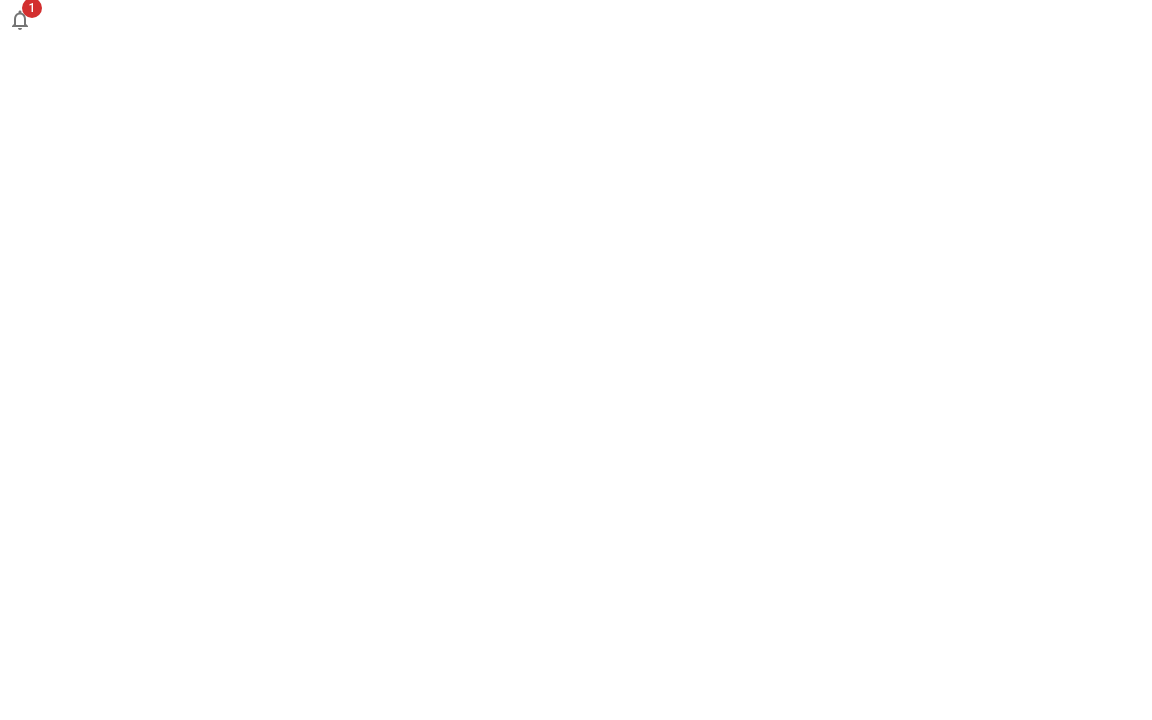
Test case: NotificationBell › opening a notification marks it read and goes to the incident
The image size is (1152, 720).
What coordinates should you click on to do the following:
click the button named "Notifications"
I would click on:
 (20, 20)
Its box is top-left (0, 0), bottom-right (40, 40).
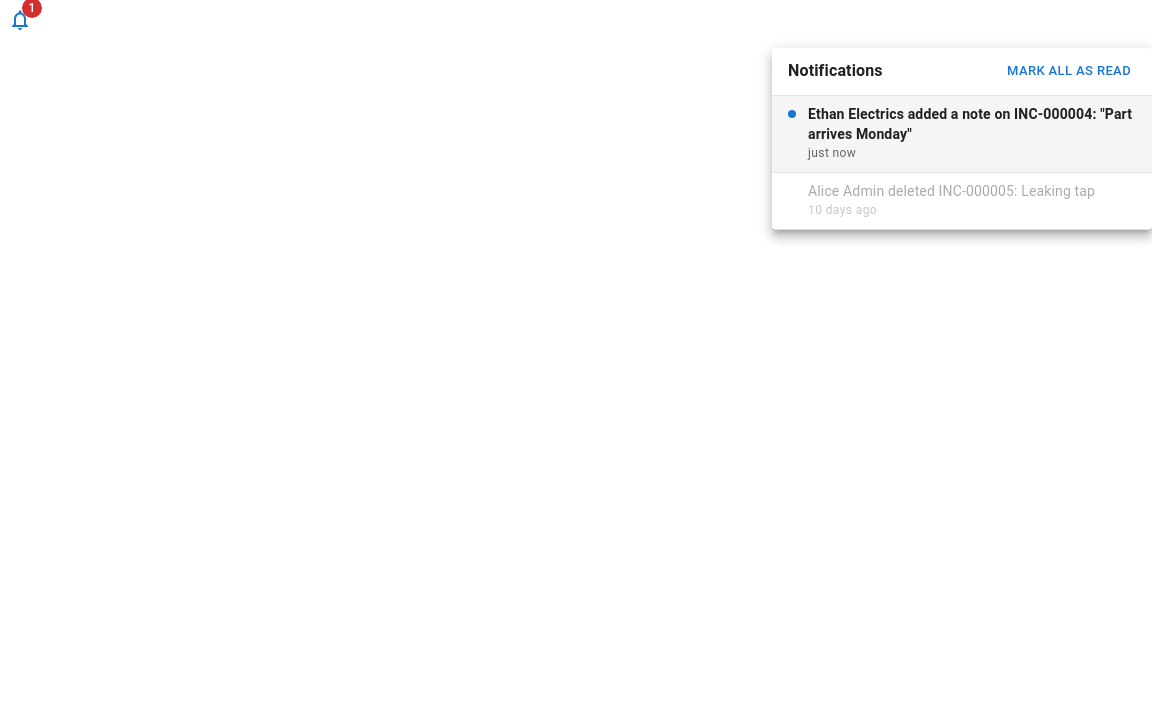
What coordinates should you click on to do the following:
click the button "Part arrives Monday"
I would click on:
 (970, 114)
Its box is top-left (772, 96), bottom-right (1151, 172).
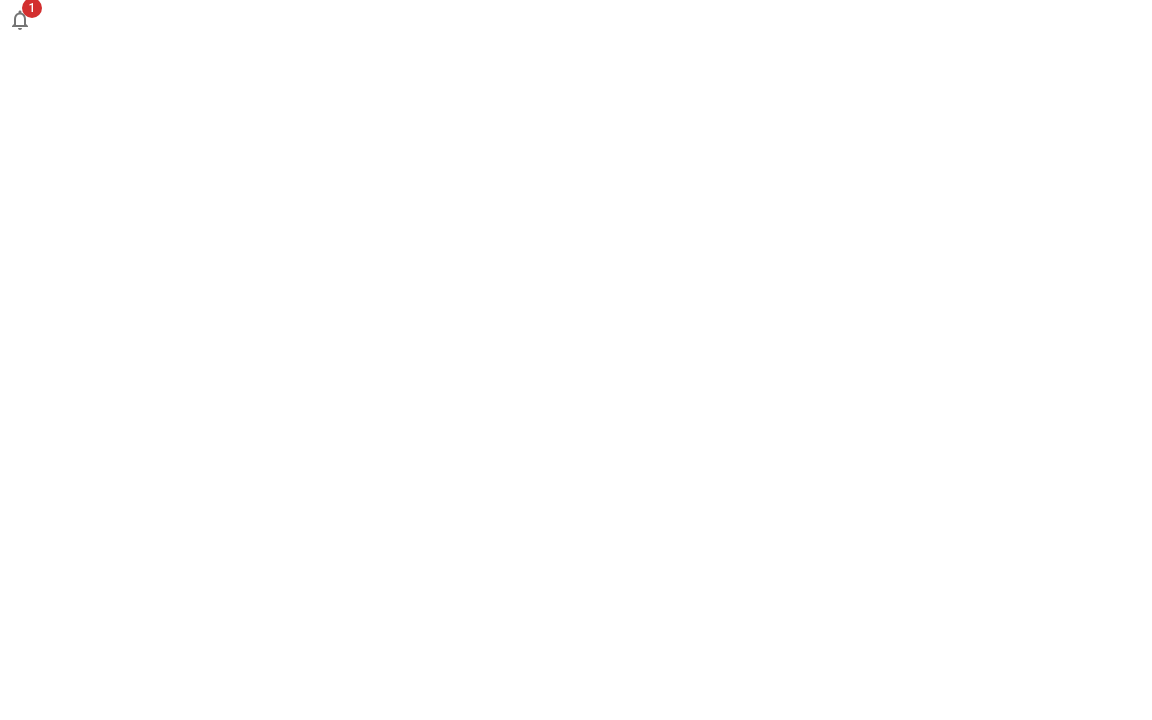
expect the dialog is gone: met
